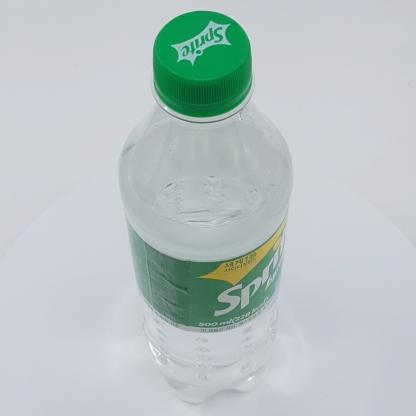-------500ML: (118, 11, 293, 403)
